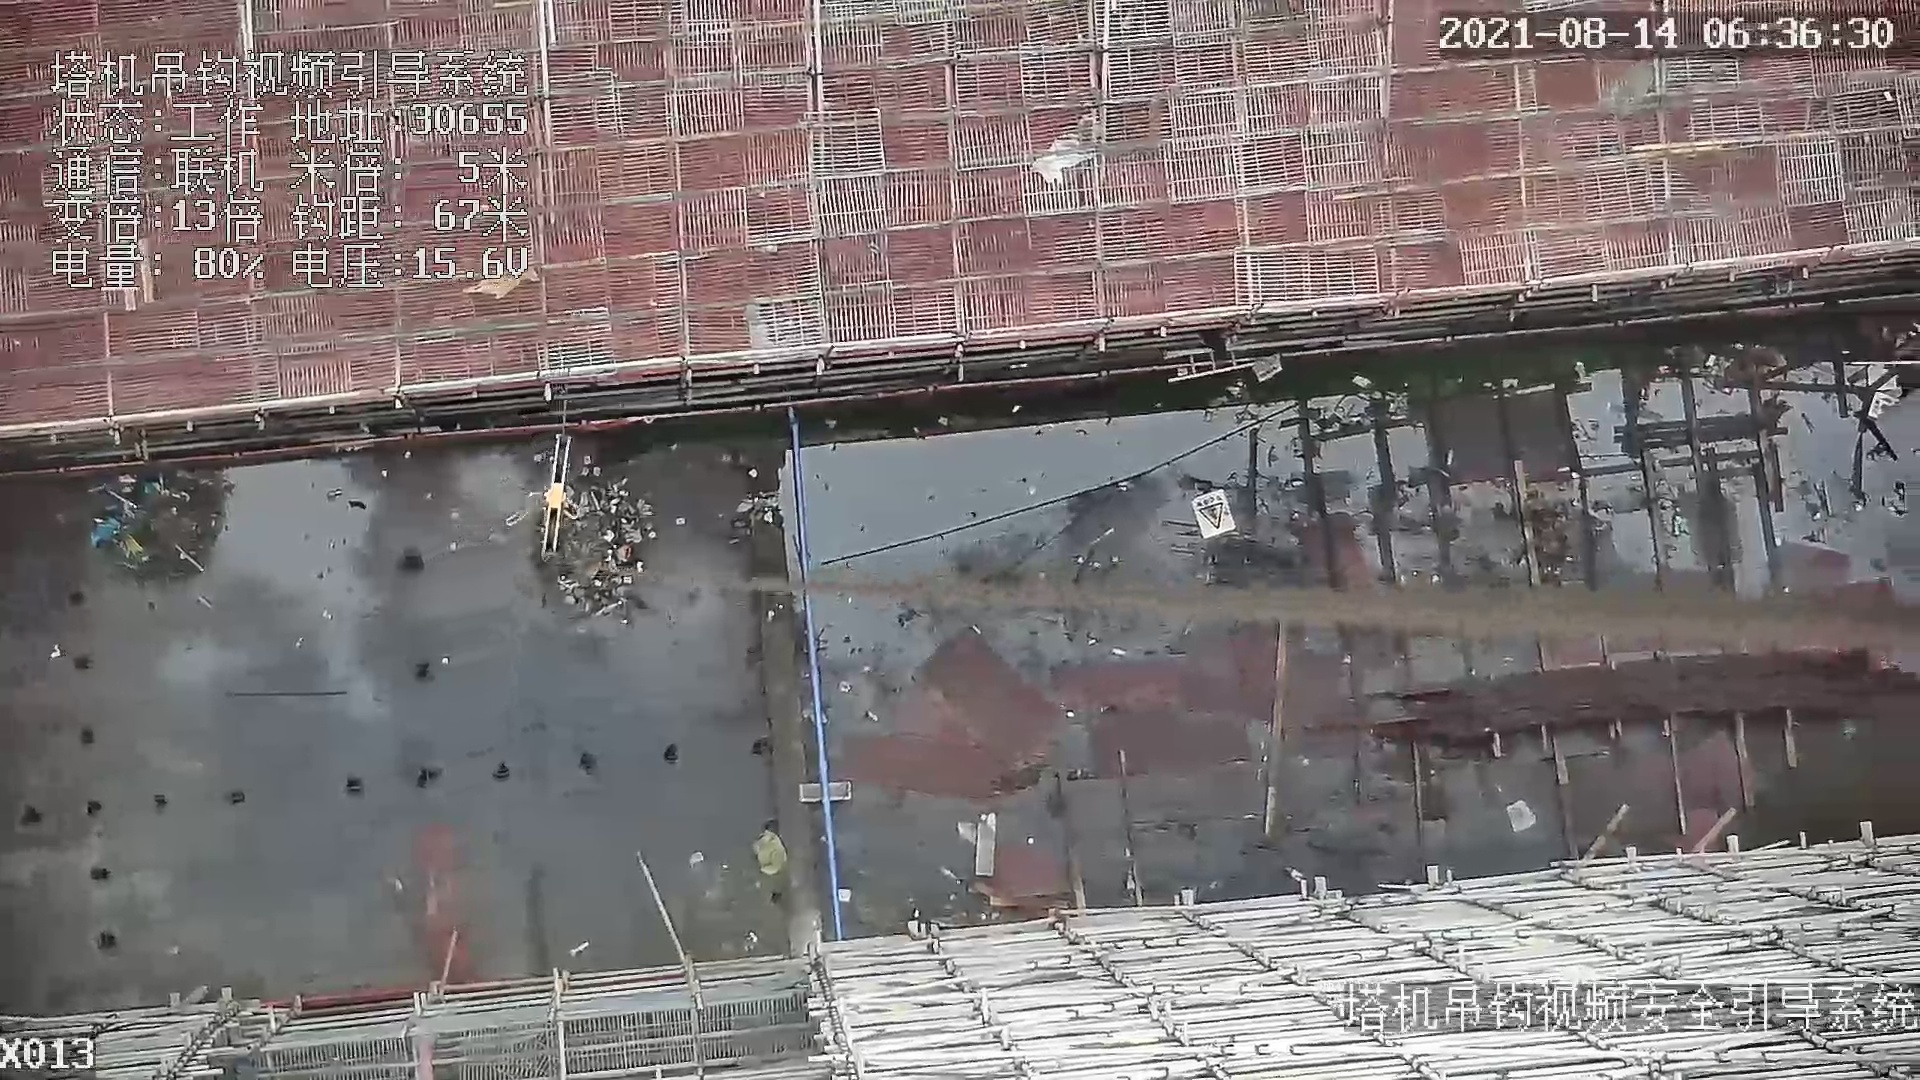hook: (545, 435, 578, 559)
